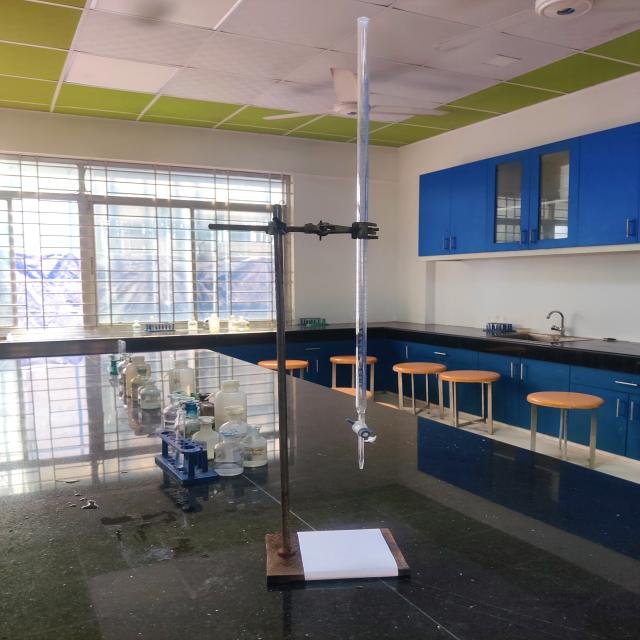Burette_Stands: (193, 198, 423, 625)
